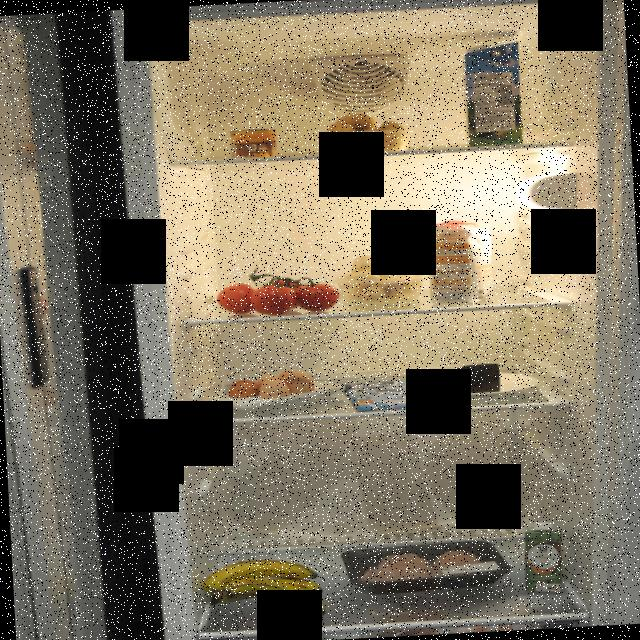banana: (201, 553, 333, 625)
cheese: (442, 362, 502, 396)
chicken_breast: (339, 537, 515, 597)
chocolate: (342, 378, 428, 414)
corn: (228, 125, 281, 161)
eggs: (227, 368, 321, 407)
heavy_cream: (516, 518, 566, 598)
milk: (458, 35, 528, 151)
mushrooms: (332, 249, 426, 304)
potato: (320, 108, 414, 156)
sugar: (427, 212, 496, 308)
tomato: (213, 256, 341, 316)
